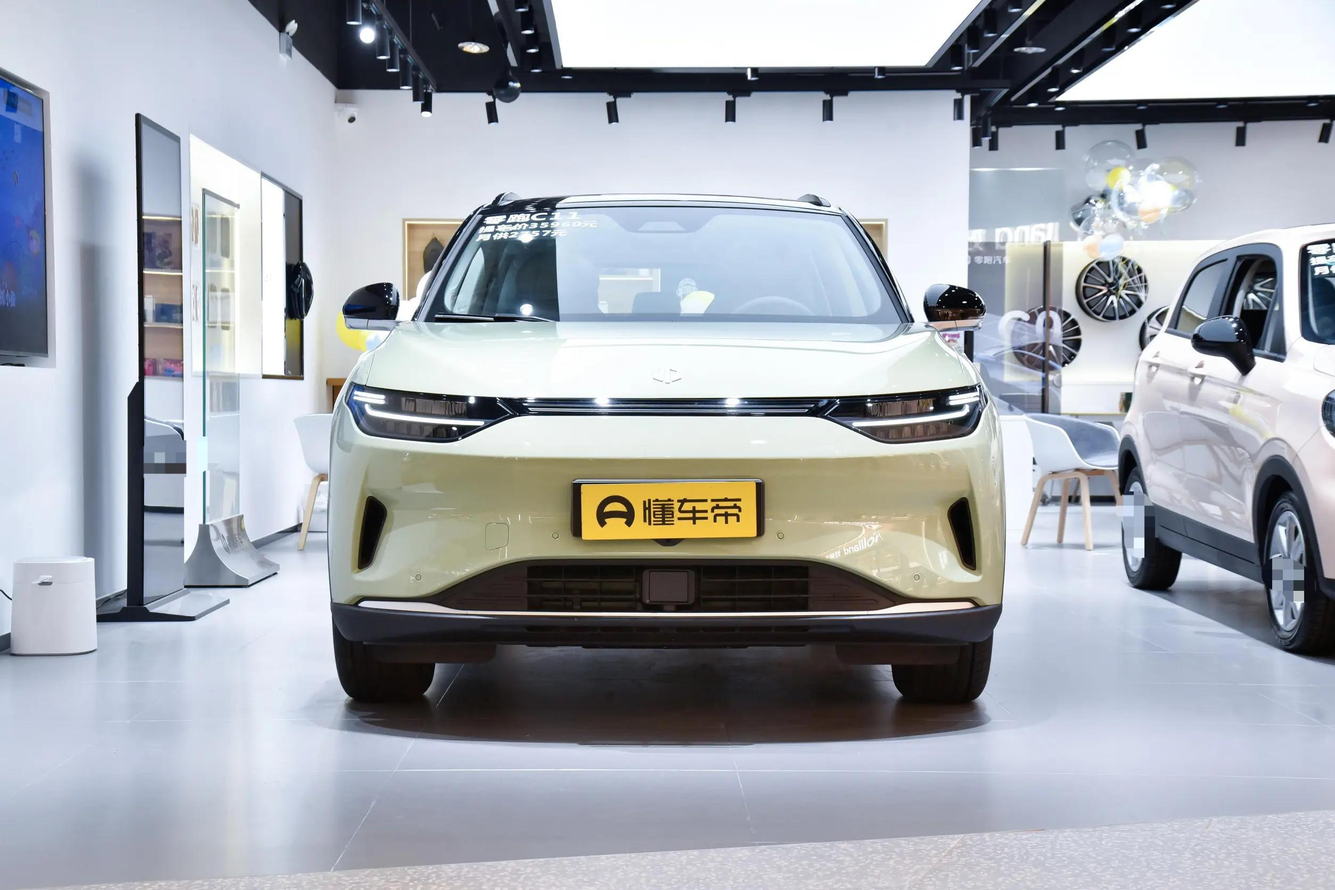LEAPMOTOR: (652, 366, 682, 385)
